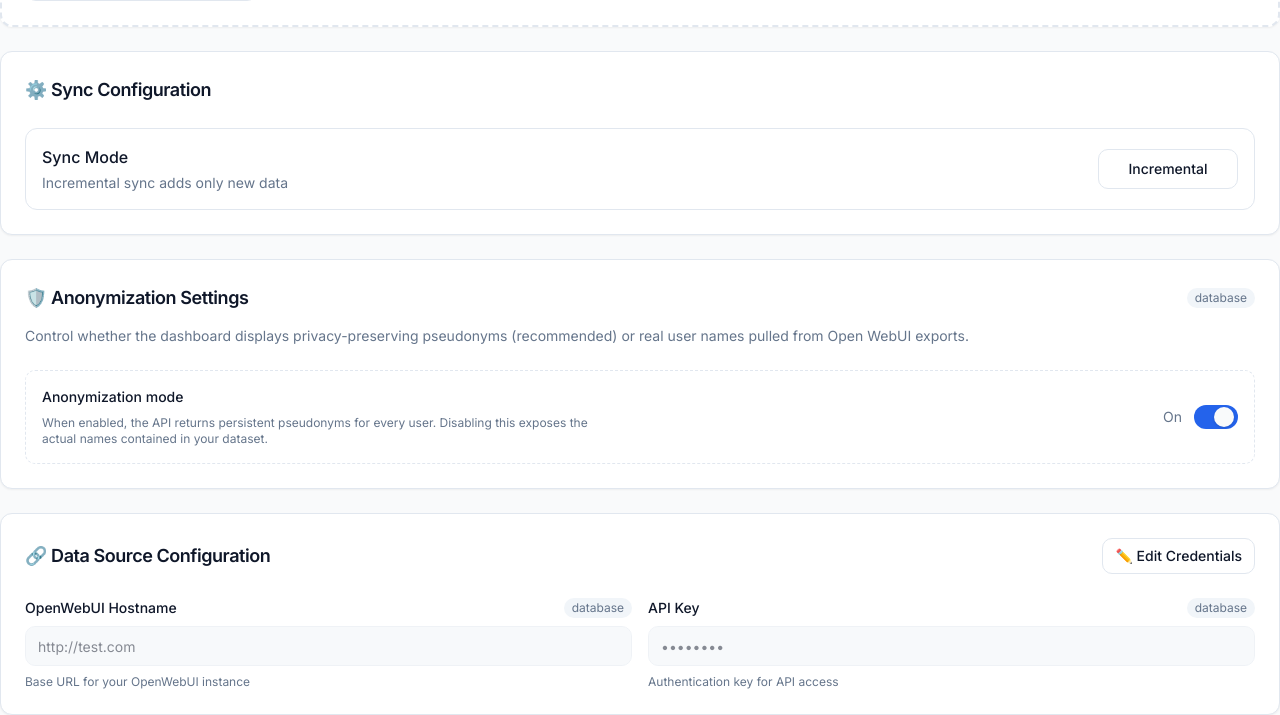
Scenario: ConnectionInfoPanel › Anonymization Settings › should allow cancelling the anonymization warning
(page scrolled)
Step 1. Click the switch named "anonymization mode" → x=1216, y=417, box [1194,405,1238,429]
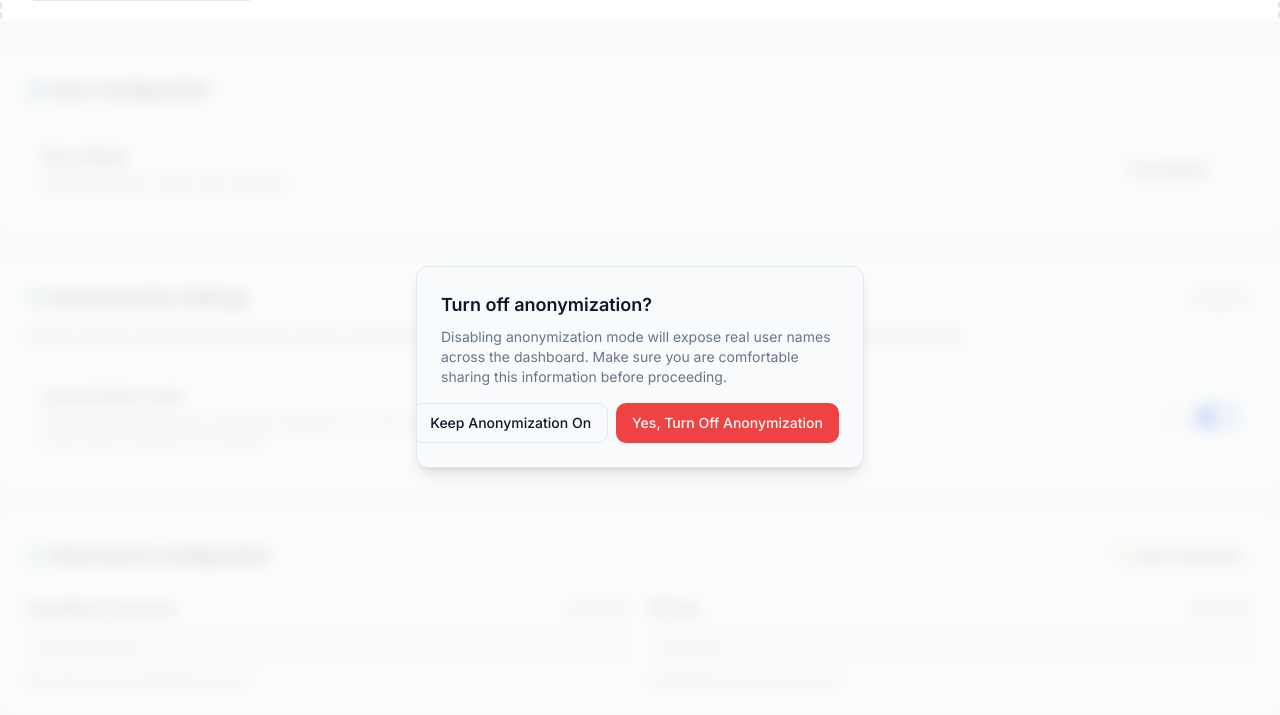
Step 2. Click the button "Keep Anonymization On" → x=511, y=423, box [413,403,608,443]
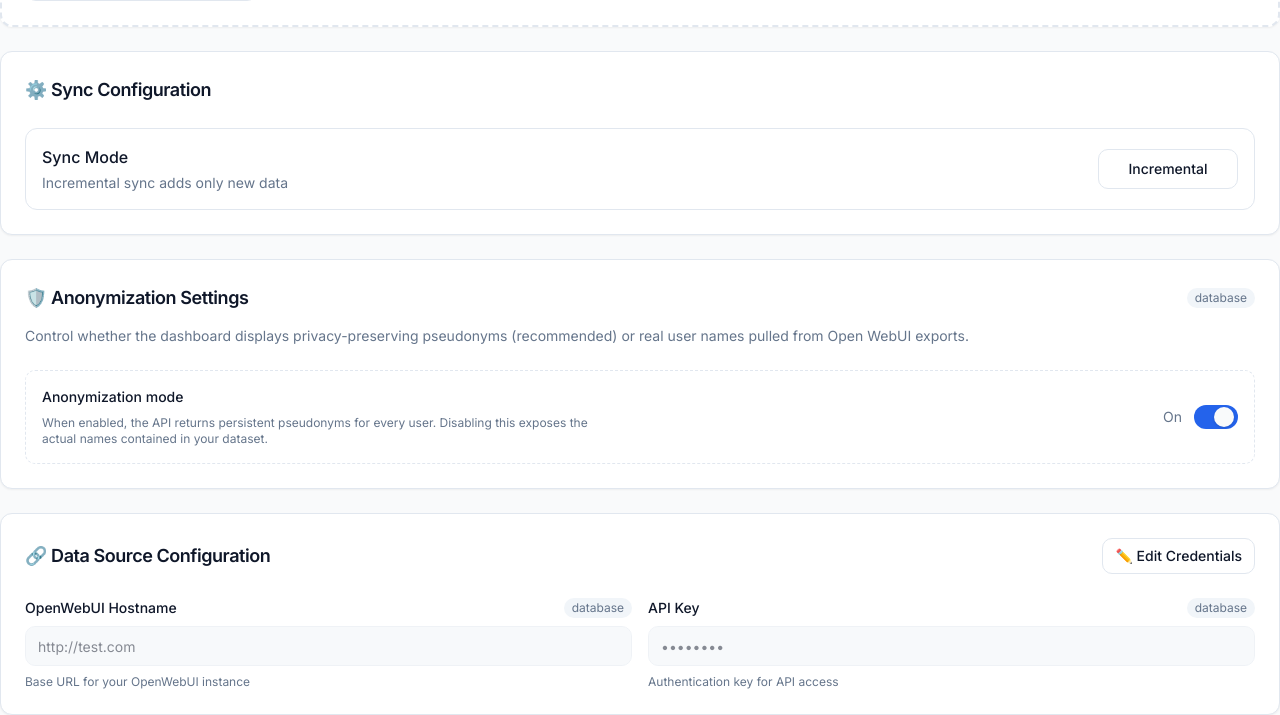
Expected: the heading "Turn off anonymization" is gone
